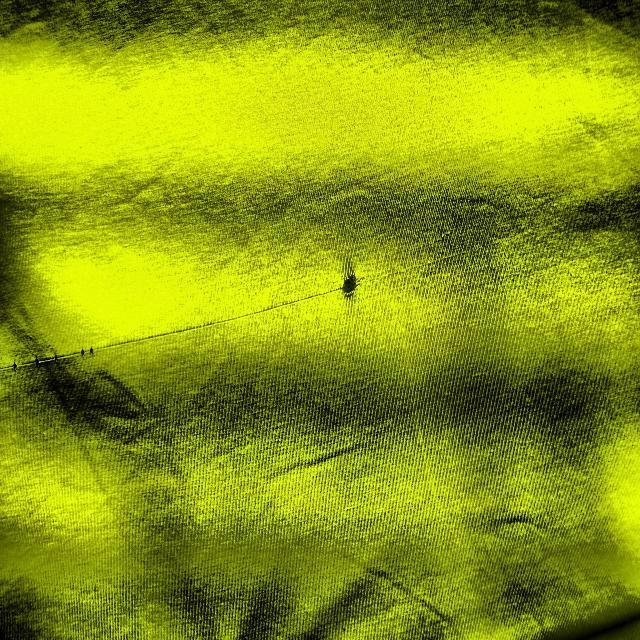cut: (334, 263, 364, 305)
gray stitch: (1, 273, 332, 376)
